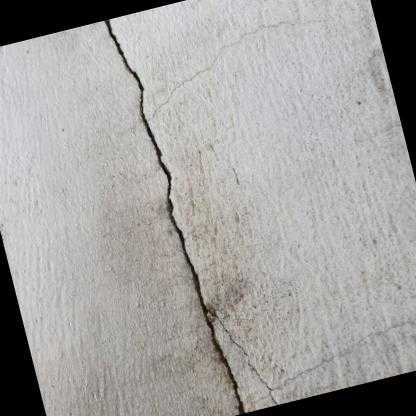crack: (103, 19, 279, 415)
